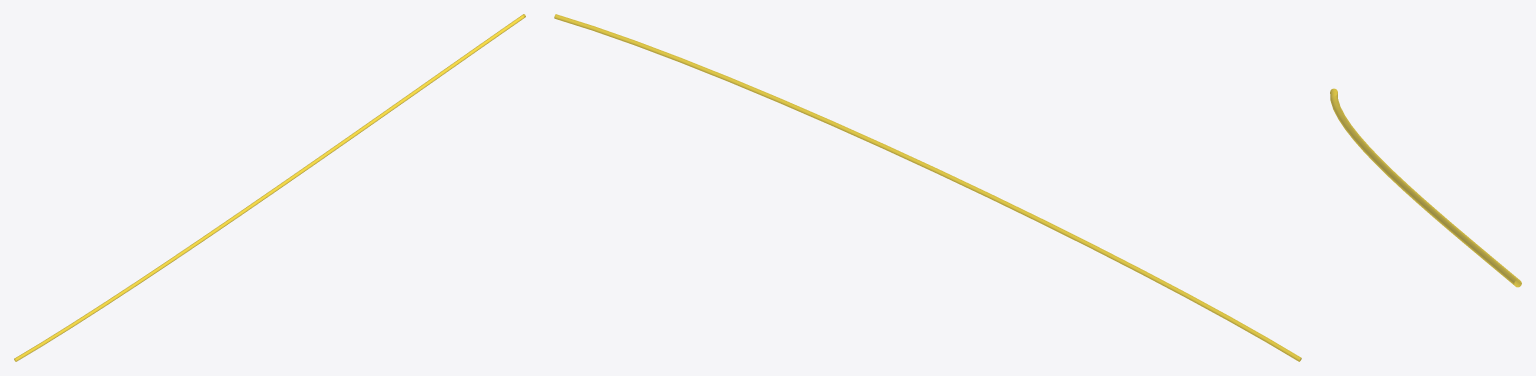
The model's file is Event_75125125_track_0.fbx.
3 views of the same model, side by side, from view 1: azimuth 30°, elevation 25°; view 2: azimuth 150°, elevation 25°; view 3: azimuth 270°, elevation 25° (orthographic). The views are drawn at different scales.
Parts seen in each view (by area): view 1: Model; view 2: Model; view 3: Model.
Boxes of the visible parts, box(x1,y1,x2,y2) form: Model: box(14, 14, 525, 361); Model: box(554, 14, 1301, 361); Model: box(1330, 88, 1521, 287).
Bounding box in the file's own units: 6.59 × 2.02 × 0.9837.
